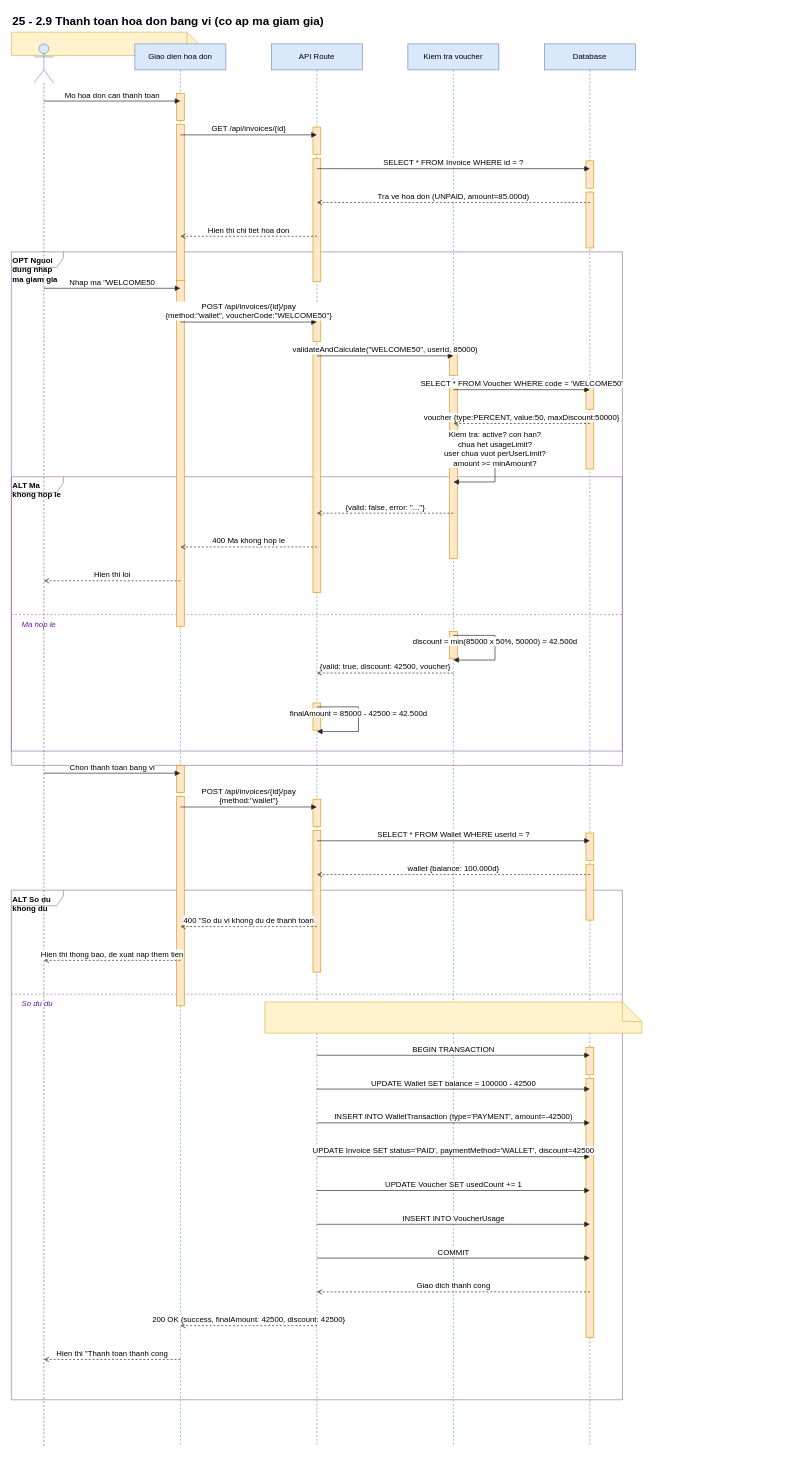
Image size: 803x1459. Some labels were removed from this diagram. Here are the shapes that lost their labels. From the top down, the centre of each, then its label:
[43,63]: Khach hang
[108,44]: Mermaid sequence source: PHAN_TICH_THIET_KE_HE_THONG.md:1213
[453,1017]: TRANSACTION
